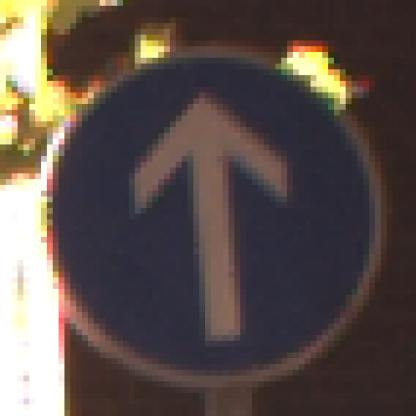AheadOnly: (42, 42, 382, 383)
